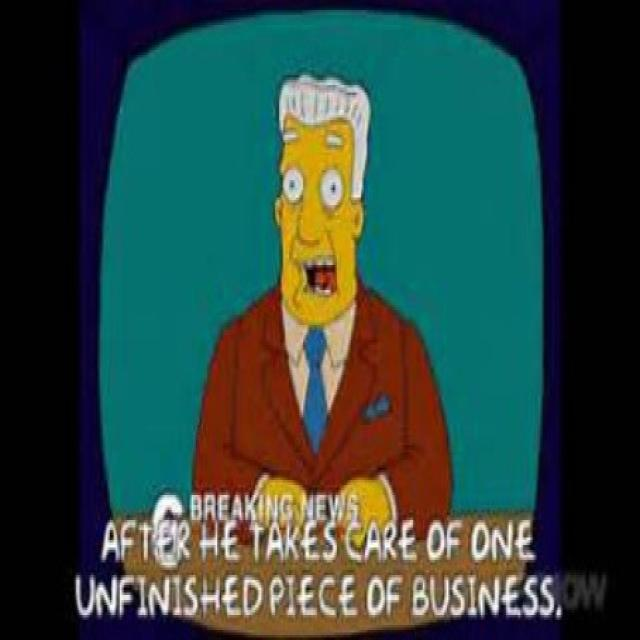Kent Brockman: (271, 70, 375, 335)
